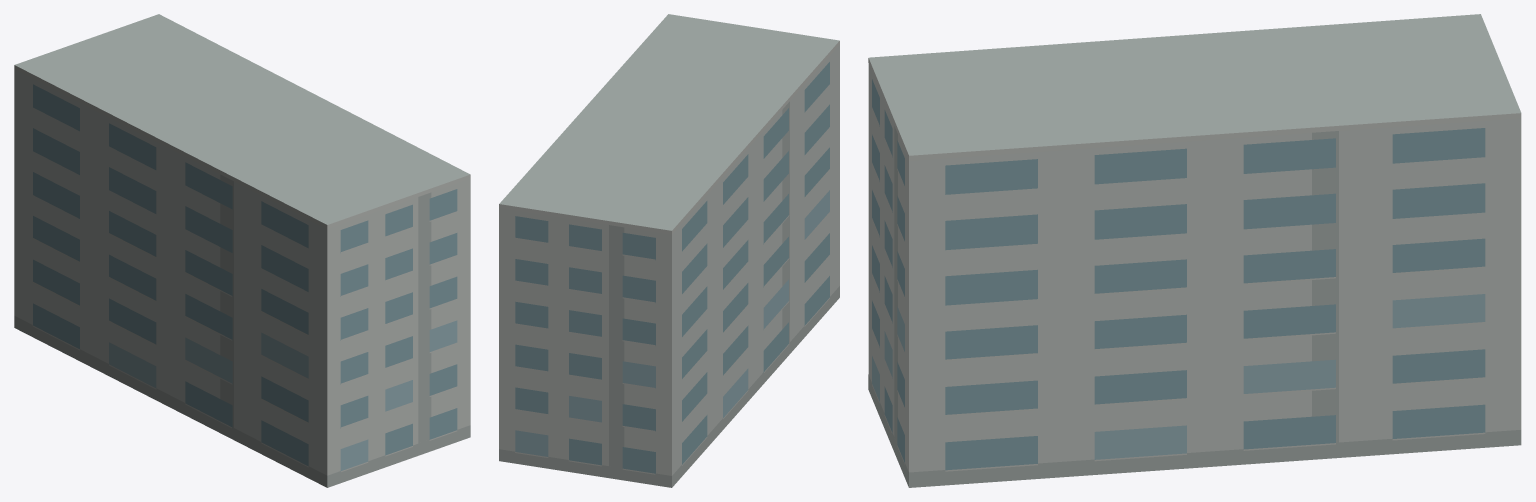
File: survey-upis-33032980.glb
3 renders of one model, left to right at view 1: azimuth 30°, elevation 25°; view 2: azimuth 150°, elevation 25°; view 3: azimuth 270°, elevation 25°, orthographic. The views are drawn at different scales.
Parts seen in each view (by area): view 1: survey-upis-33032980.tmp; view 2: survey-upis-33032980.tmp; view 3: survey-upis-33032980.tmp.
Part boxes in pixels (bbox=[...]): survey-upis-33032980.tmp: bbox=[14, 14, 470, 487]; survey-upis-33032980.tmp: bbox=[499, 14, 839, 487]; survey-upis-33032980.tmp: bbox=[868, 14, 1521, 487].
Bounding box in the file's own units: 14.57 × 15.9 × 28.34.
